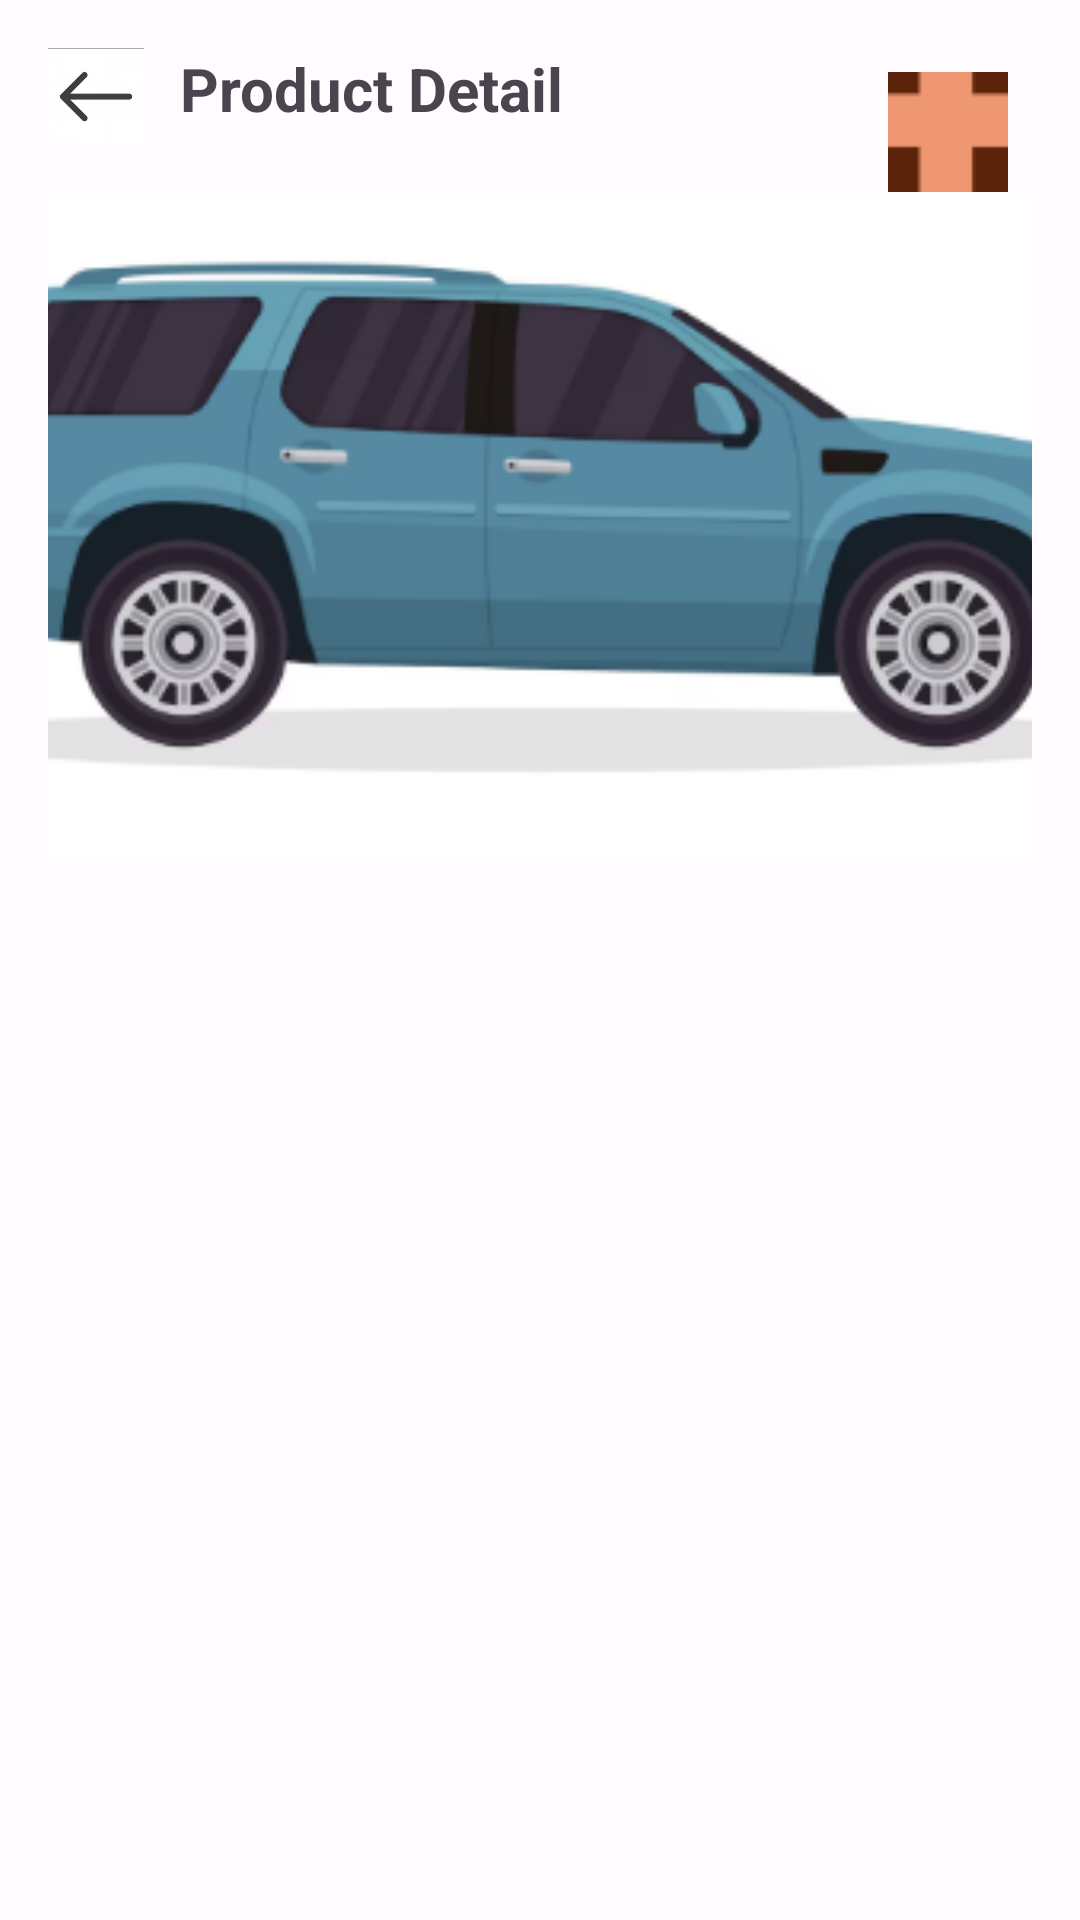

Point at icon controls on the screen. Image size 1080*1920, points as (x,y).
Add image: (948,132)
Back: (96,84)
